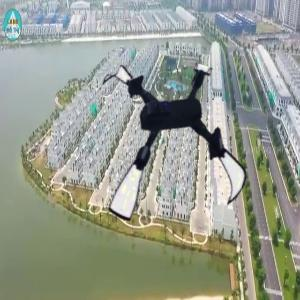drone: (83, 59, 257, 233)
